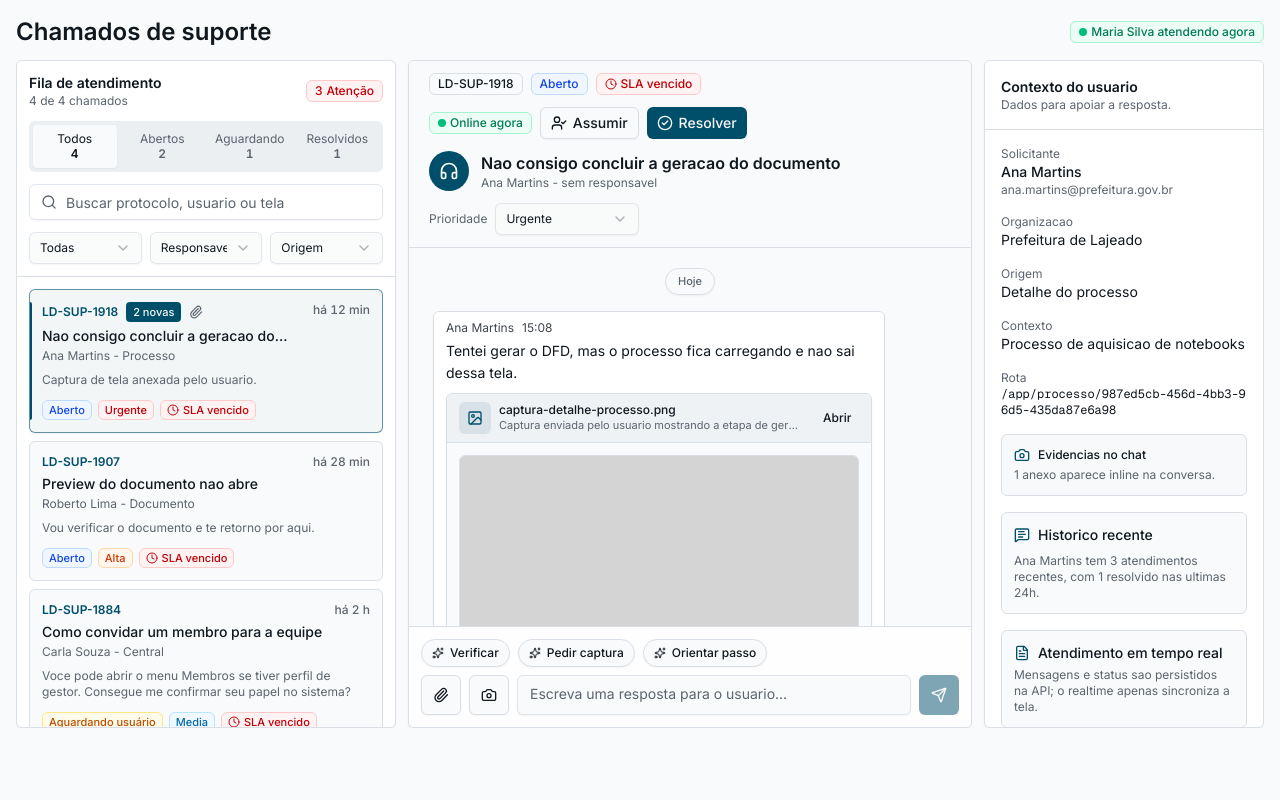
Test case: AdminSupportTicketsPage › keeps status counts scoped when a status tab is selected
Expected: the button "Todos 4" is shown, [33,125,116,168]
Expected: the button "Abertos 2" is shown, [120,125,204,168]
Click the button "Resolvidos 1" at (337, 146), box [296,125,379,168]
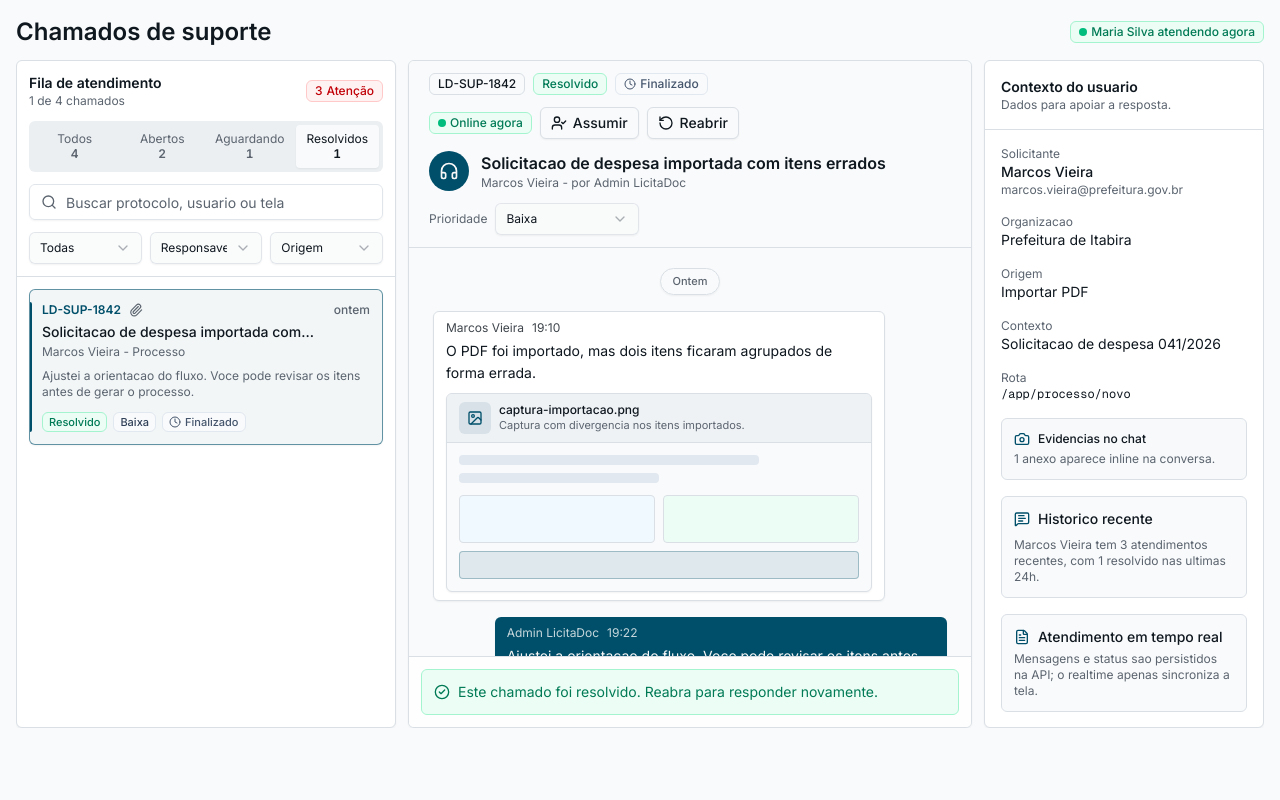
Expected: the button "Aguardando 1" is shown, [208,125,292,168]
Now the text "1 de 4 chamados" is shown, box [29,93,125,108]
Now the button "LD-SUP-1918" is gone
Click the button "Abertos 2" at (162, 146), box [120,125,204,168]
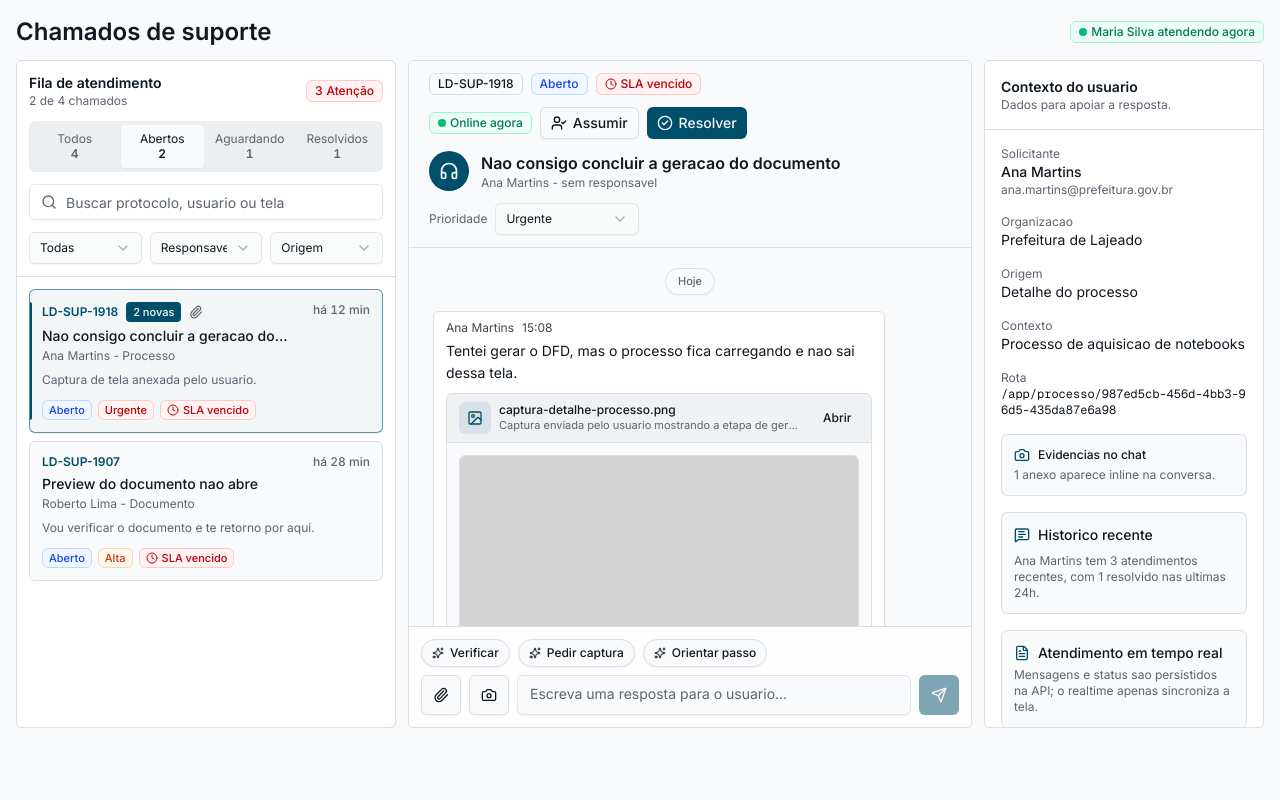
Expected: the button "Resolvidos 1" is shown, [296,125,379,168]
Now the text "2 de 4 chamados" is shown, box [29,93,127,108]
